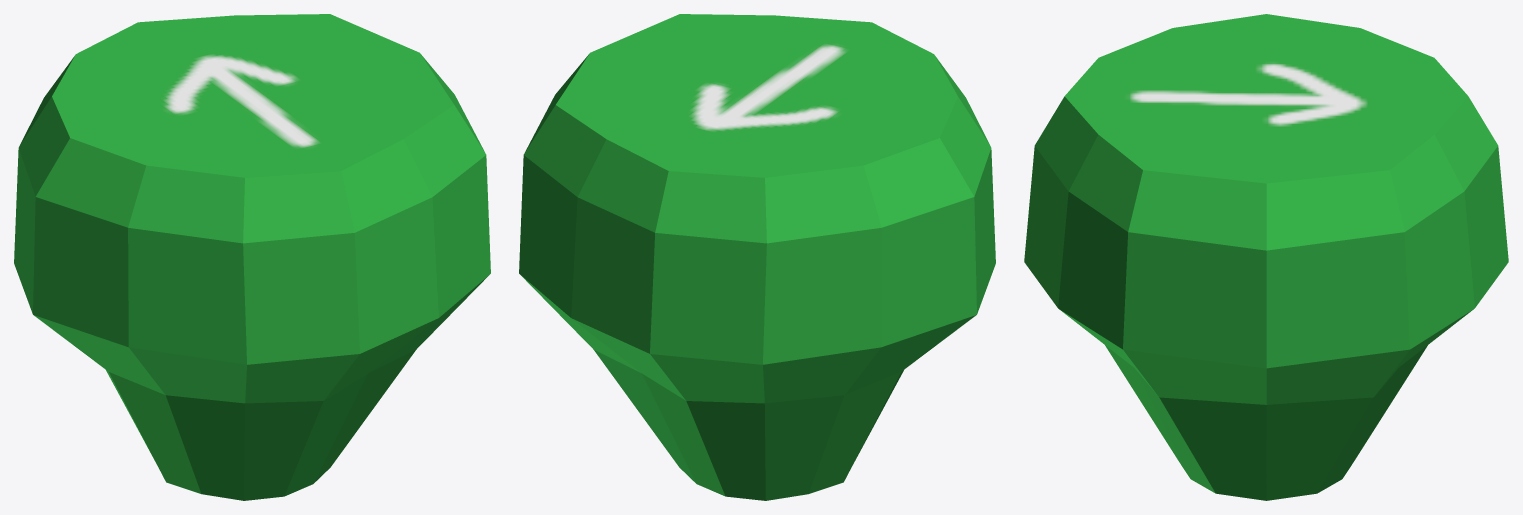
Rendered from buttongreen.glb.
3 renders of one model, left to right at view 1: azimuth 30°, elevation 25°; view 2: azimuth 150°, elevation 25°; view 3: azimuth 270°, elevation 25°, orthographic.
Visible parts, largest first — view 1: ButtonGreen; view 2: ButtonGreen; view 3: ButtonGreen.
Part boxes in pixels (box(x1,y1,x2,y2)): ButtonGreen: box(14, 14, 490, 500); ButtonGreen: box(519, 14, 995, 500); ButtonGreen: box(1024, 14, 1508, 500).
Size of the model in its own units: 0.4606 by 0.3815 by 0.4582.
Materials: 1 (1 with a texture image).
